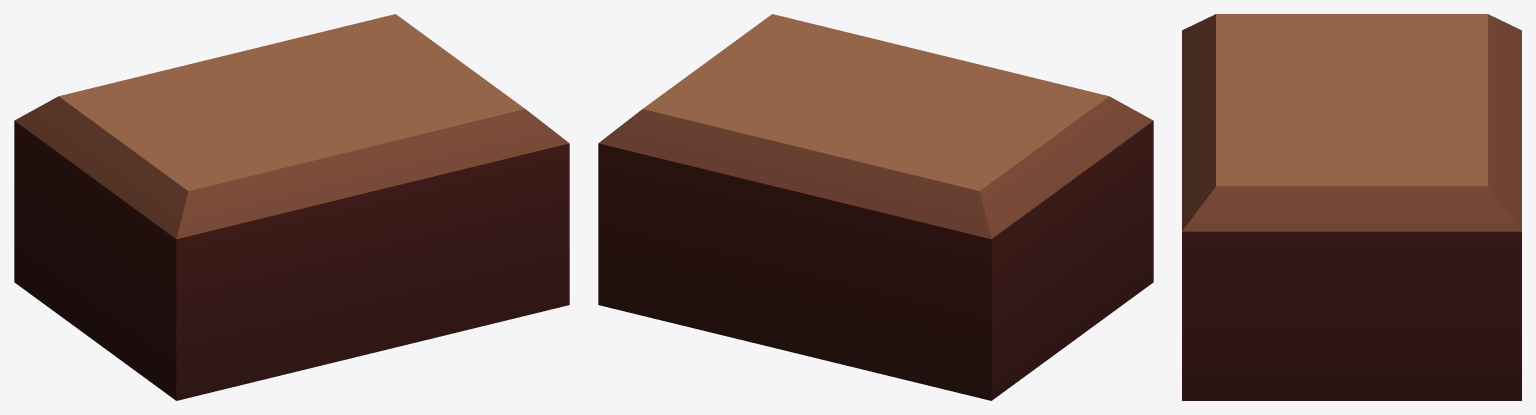
Rendered from heat-exchanger.glb.
3 renders of one model, left to right at view 1: azimuth 30°, elevation 25°; view 2: azimuth 150°, elevation 25°; view 3: azimuth 270°, elevation 25°, orthographic. The views are drawn at different scales.
Visible parts, largest first — view 1: heat-exchanger; view 2: heat-exchanger; view 3: heat-exchanger.
Boxes of the visible parts, x1,y1,x2,y2 form: heat-exchanger: [14, 14, 569, 400]; heat-exchanger: [598, 14, 1153, 400]; heat-exchanger: [1182, 14, 1521, 400].
Size of the model in its own units: 0.28 by 0.13 by 0.2.
